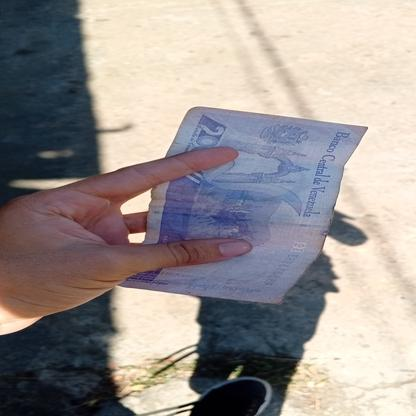ten-back-vef: (120, 106, 367, 306)
